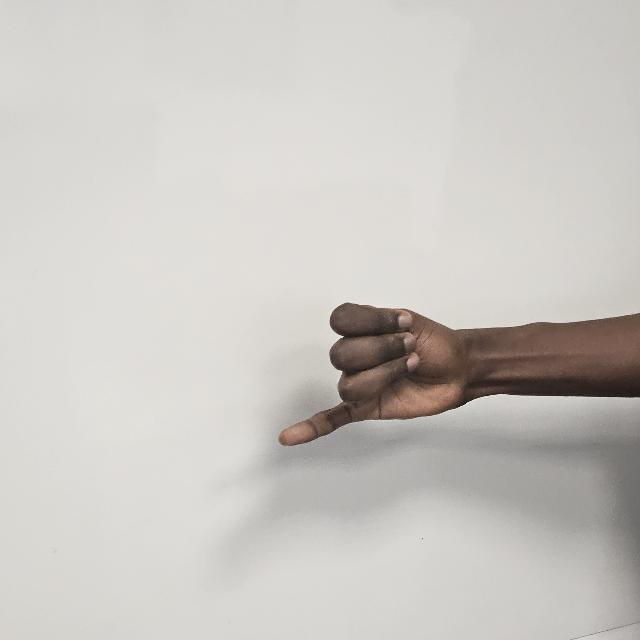Esquerda: (270, 301, 458, 459)
